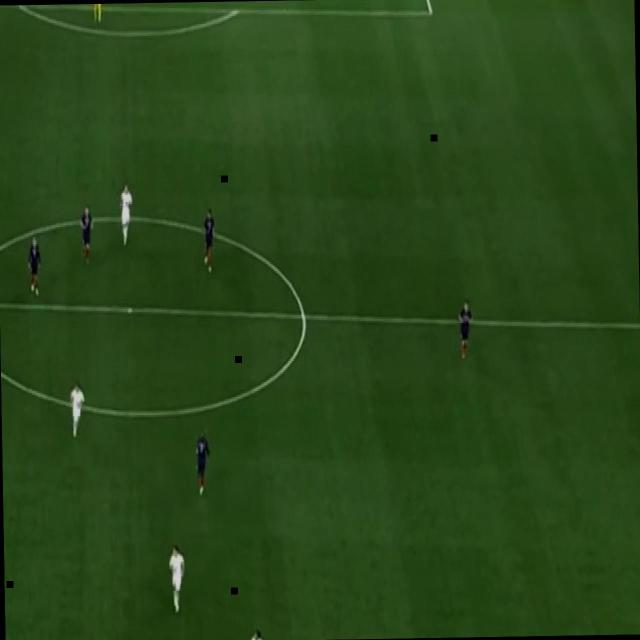player-white: (168, 544, 186, 614), (195, 428, 212, 498), (68, 381, 86, 441), (118, 183, 134, 247), (457, 299, 473, 361), (27, 236, 42, 299), (202, 208, 216, 274), (80, 203, 94, 266), (249, 628, 267, 640)
